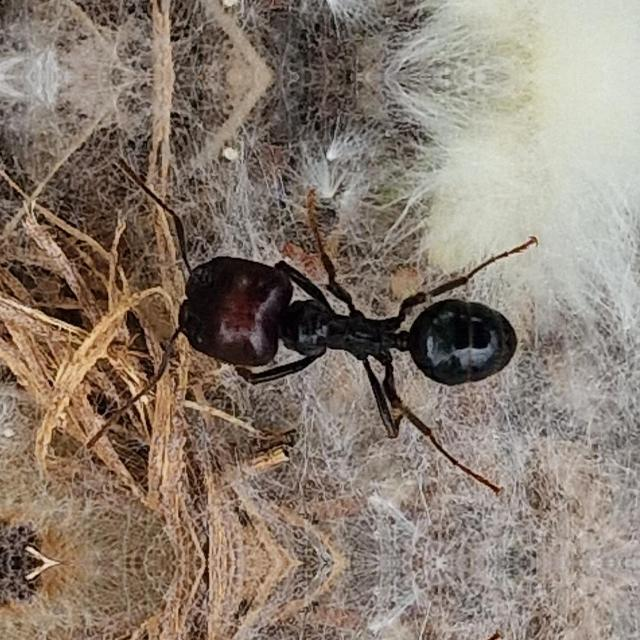Messor: (142, 196, 532, 454)
